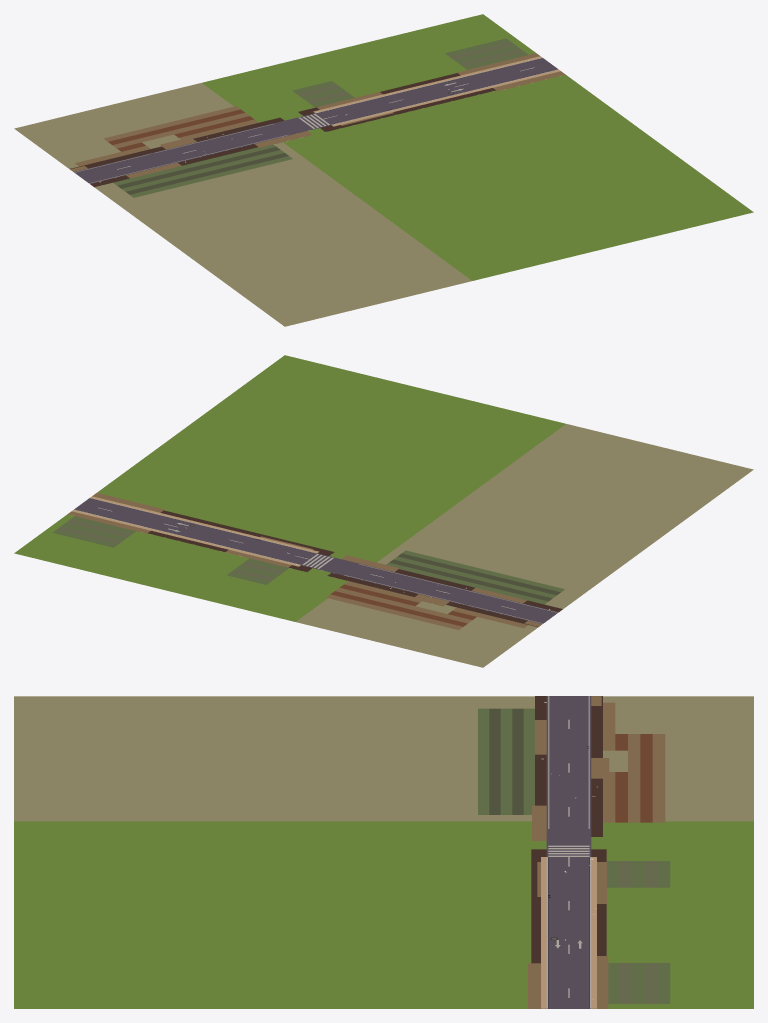
The model's file is cure-2-2.glb.
3 renders of one model, top to bottom at view 1: azimuth 30°, elevation 25°; view 2: azimuth 150°, elevation 25°; view 3: azimuth 270°, elevation 25°, orthographic. The views are drawn at different scales.
Visible parts, largest first — view 1: cure-2-2; view 2: cure-2-2; view 3: cure-2-2.
Part boxes in pixels (x1,y1,x2,y2): cure-2-2: [14, 14, 753, 326]; cure-2-2: [14, 355, 753, 667]; cure-2-2: [14, 696, 753, 1008].
Size of the model in its own units: 100 by 0.017 by 100.
